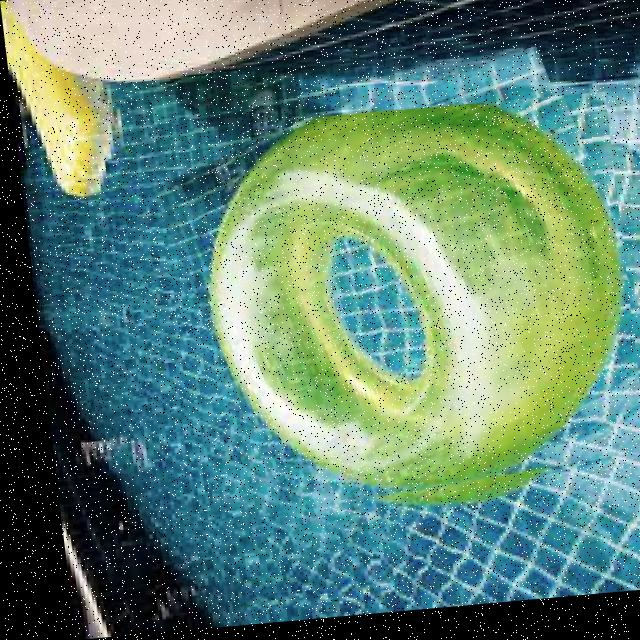litter: (197, 114, 617, 497)
